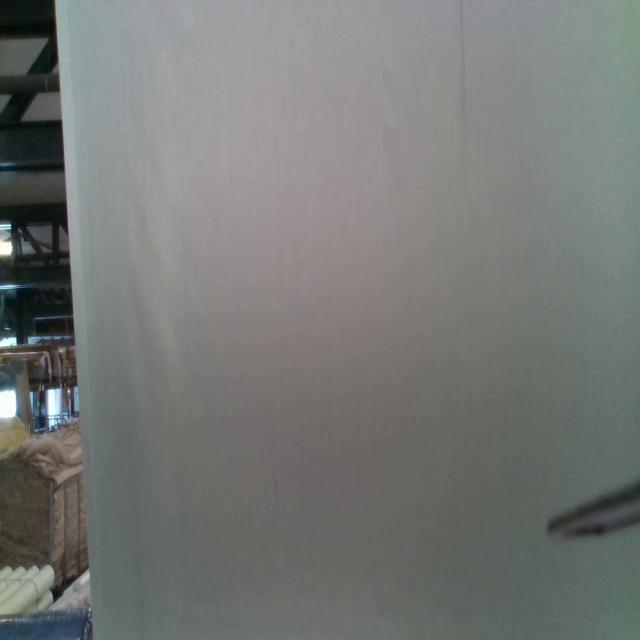crease: (458, 0, 468, 136)
